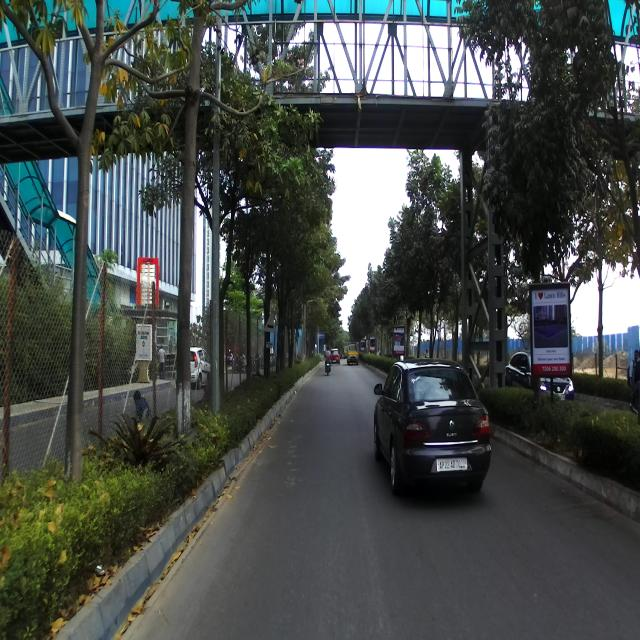car ahead at: (372, 348, 493, 502)
